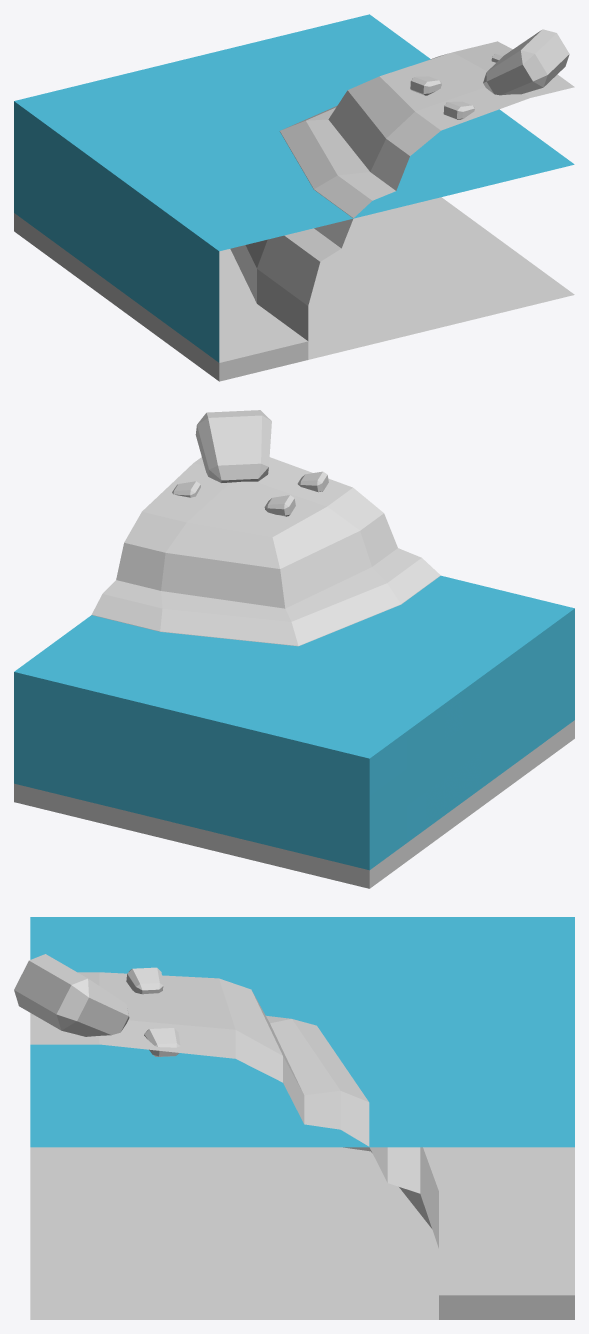
Rendered from Corner4.fbx.
The picture shows the model from 3 angles, top to bottom: view 1: azimuth 30°, elevation 25°; view 2: azimuth 150°, elevation 25°; view 3: azimuth 270°, elevation 25°; orthographic projection. The views are drawn at different scales.
Visible parts, largest first — view 1: Corner4; view 2: Corner4; view 3: Corner4.
Boxes of the visible parts, x1,y1,x2,y2 form: Corner4: (14,14,574,381); Corner4: (14,410,574,888); Corner4: (14,917,574,1319).
Size of the model in its own units: 203 by 136 by 206.
